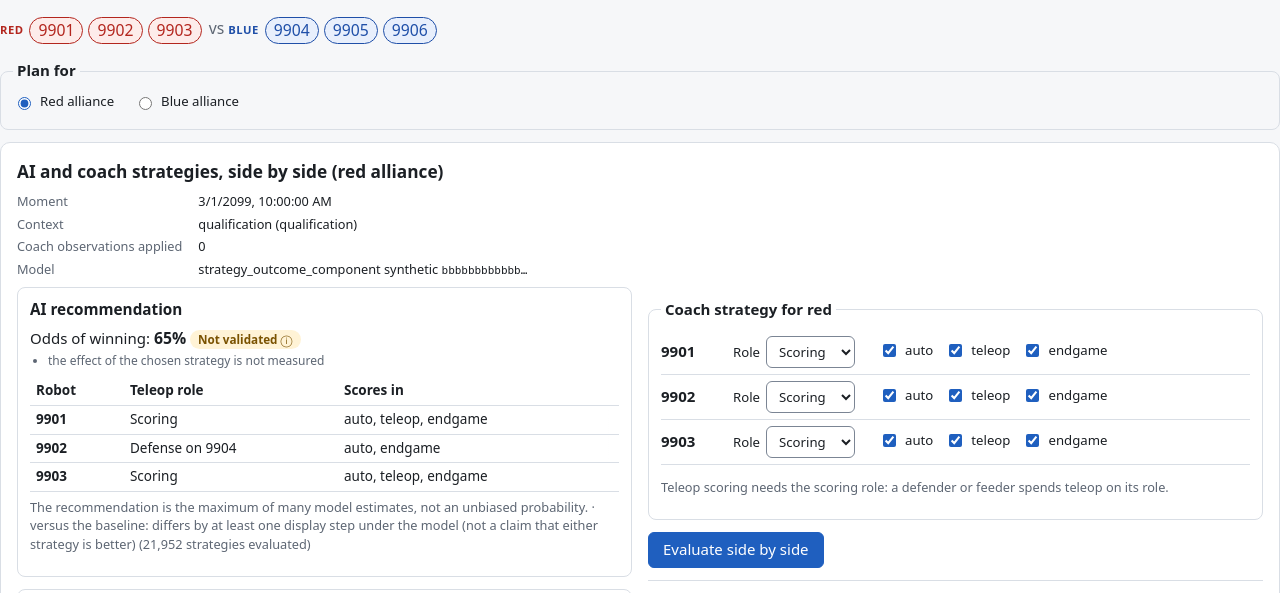
Test: MatchPage (P8-M4) › saves the edited coach strategy (not the AI one), with the token
This screenshot has width=1280, height=593.
expect the heading "AI recommendation" is shown: met, box [30, 298, 182, 318]
Select "Feeding" in the 3rd dropdown labelled "Role" at coordinates (810, 442), box [766, 426, 855, 458]
(page scrolled)
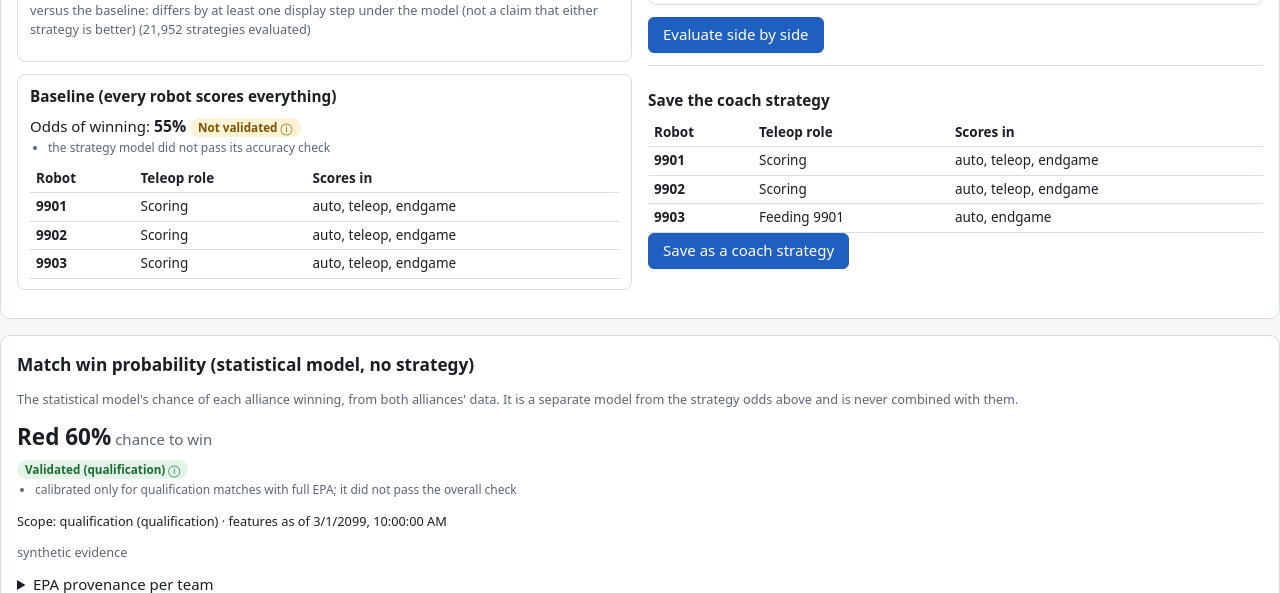
Click the button "Save as a coach strategy".
click(749, 251)  # box [648, 233, 849, 269]
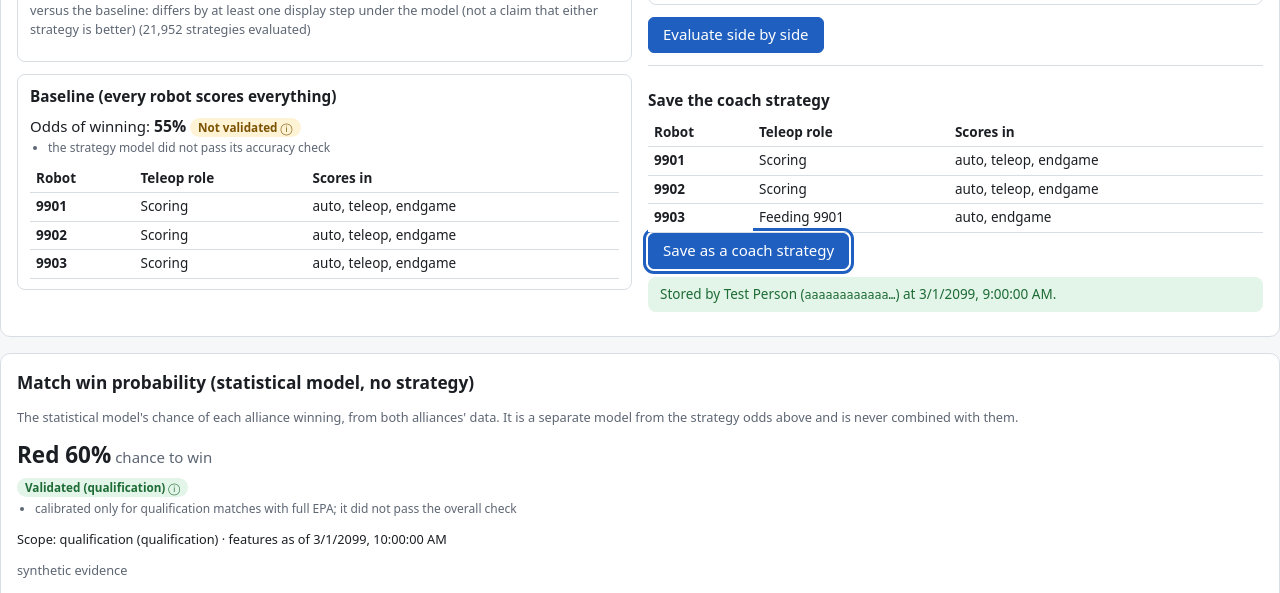
expect the text "Stored by Test Person" is shown: met, box [648, 277, 1263, 312]
